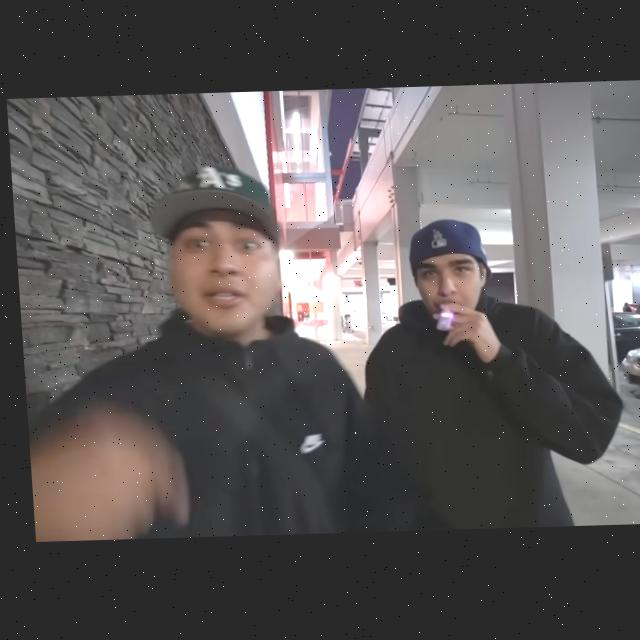vape: (430, 310, 451, 334)
